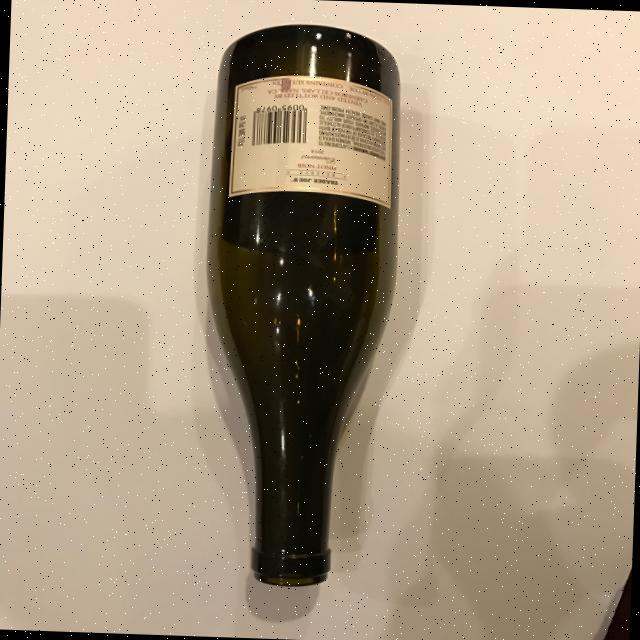glass: (200, 14, 404, 586)
